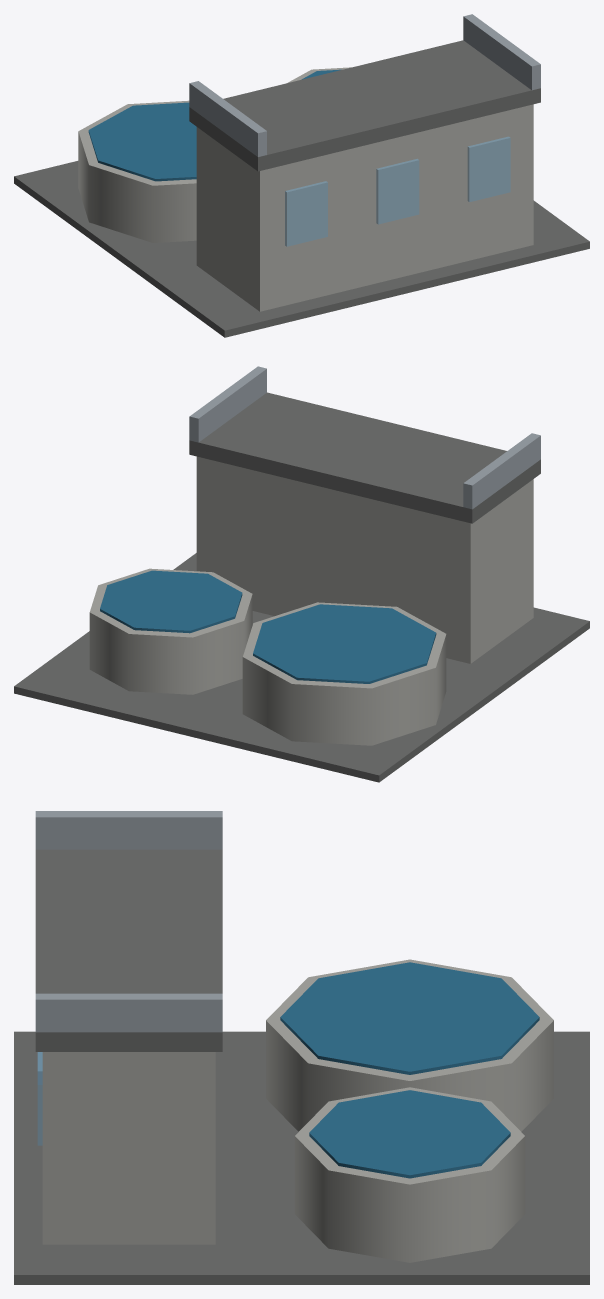
The model's file is bld_special_water_works_a06_lod1.glb.
3 renders of one model, top to bottom at view 1: azimuth 30°, elevation 25°; view 2: azimuth 150°, elevation 25°; view 3: azimuth 270°, elevation 25°, orthographic. The views are drawn at different scales.
Visible parts, largest first — view 1: body; view 2: body; view 3: body.
Part boxes in pixels (x1=…): body: x1=14, y1=14, x2=589, y2=337; body: x1=14, y1=366, x2=589, y2=782; body: x1=14, y1=811, x2=589, y2=1284.
Size of the model in its own units: 8 by 3.95 by 8.
